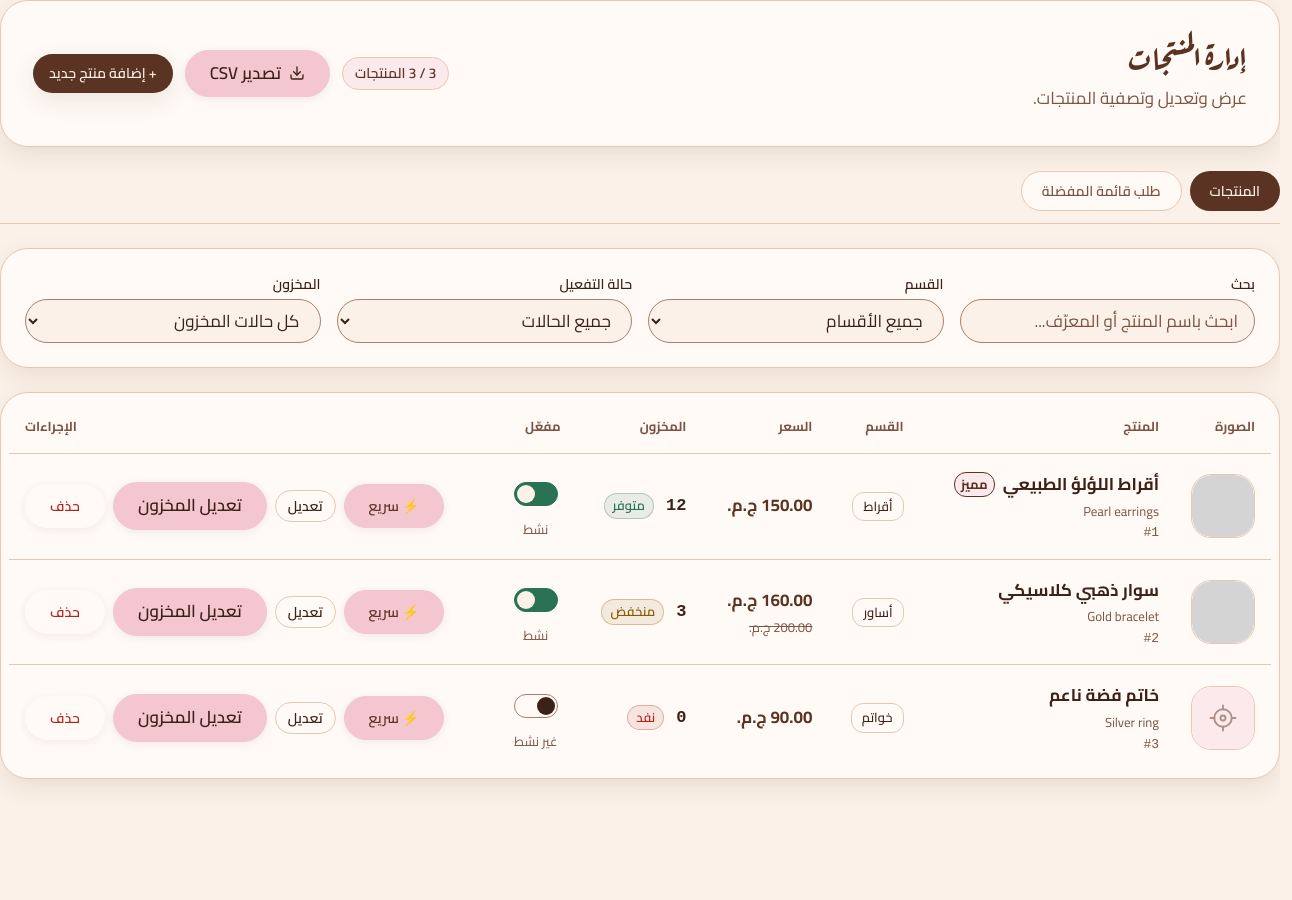
Admin Products Management (T-5.02) › Filtering and search › filters products by active / archived status
expect the text "أقراط اللؤلؤ الطبيعي" is shown: met, box [1003, 470, 1159, 500]
Filter active
Select "نشط فقط" in the dropdown labelled "حالة التفعيل" at (484, 321), box [336, 299, 632, 343]
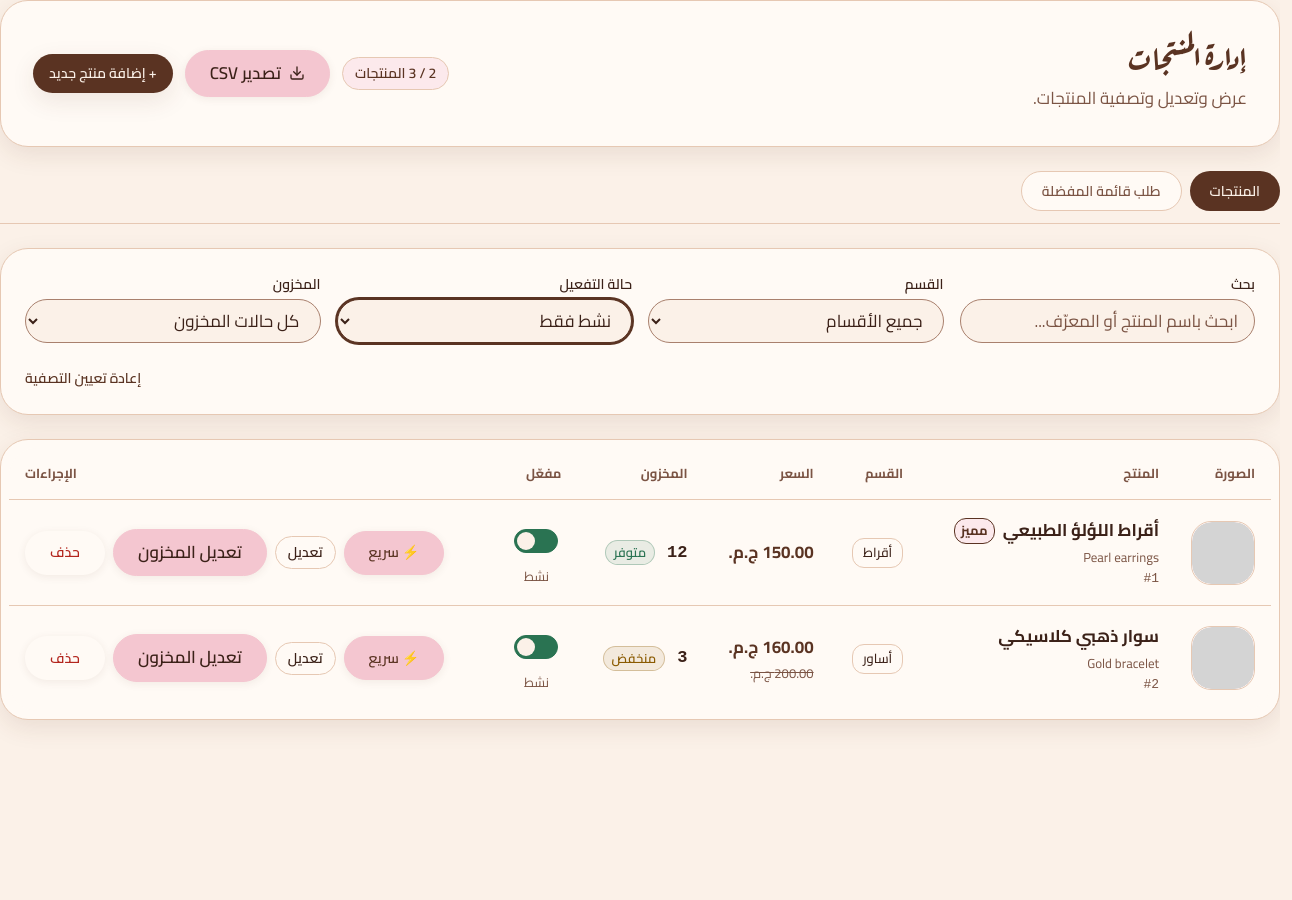
expect the text "أقراط اللؤلؤ الطبيعي" is shown: met, box [1003, 516, 1159, 546]
expect the text "خاتم فضة ناعم" is gone: met
Filter archived
Select "غير نشط / مؤرشف" in the dropdown labelled "حالة التفعيل" at (484, 321), box [336, 299, 632, 343]
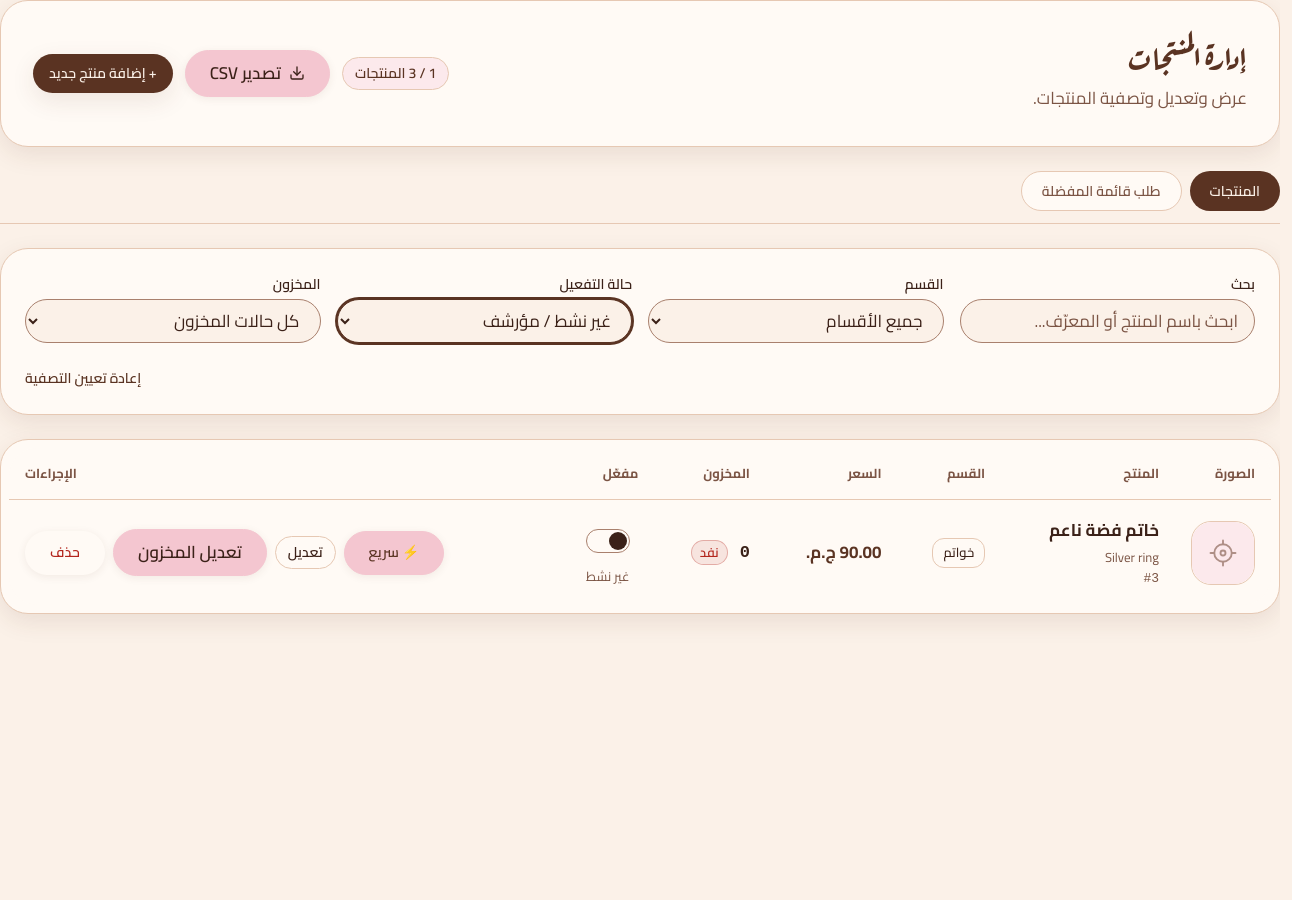
expect the text "أقراط اللؤلؤ الطبيعي" is gone: met
expect the text "سوار ذهبي كلاسيكي" is gone: met
expect the text "خاتم فضة ناعم" is shown: met, box [1049, 516, 1159, 546]
